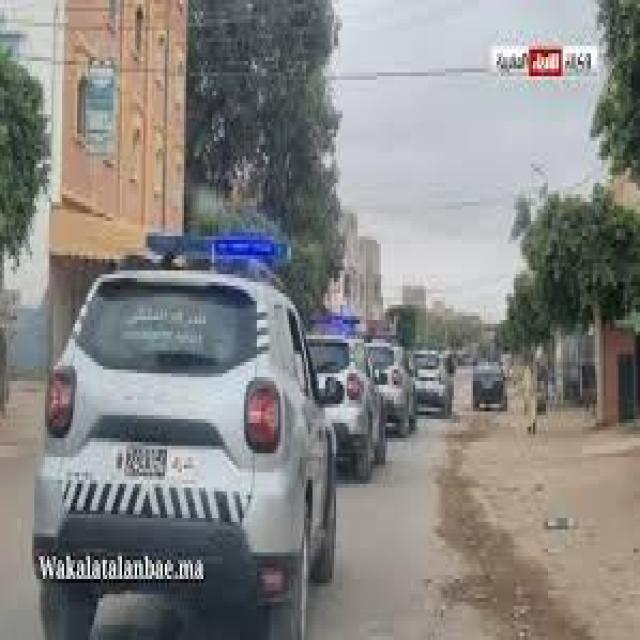gendarme car: (31, 220, 342, 638), (304, 297, 390, 490)
